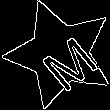M_NW: (25, 20, 95, 88)
